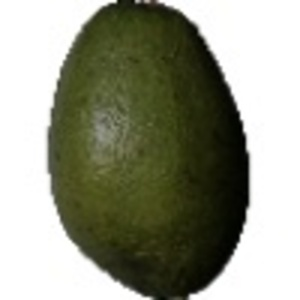abacate: (49, 2, 256, 297)
